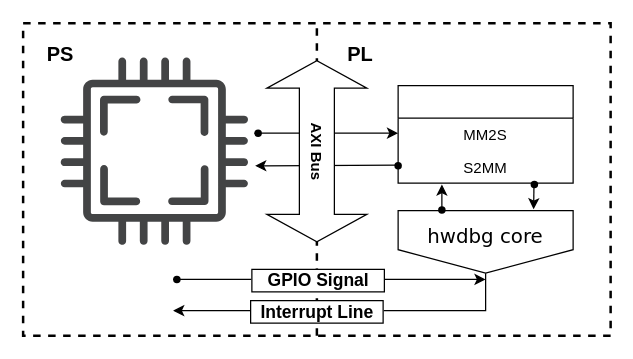
The diagram is 633 pixels wide and 359 high, and some of its shapes have lost their labels. Here are the shapes that lost their labels. From the top down, the box of each, then its label:
(60, 57, 248, 244): ARM Core
(397, 84, 573, 183): BRAM Memory
